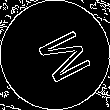M_SW: (22, 23, 88, 87)
